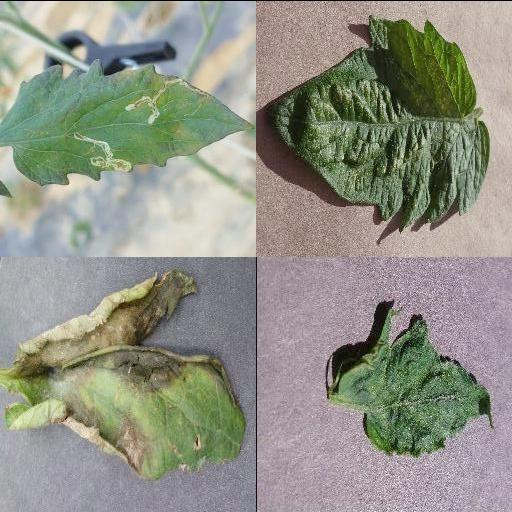Late Blight: (5, 267, 249, 477)
Leaf Miner: (0, 56, 255, 185)
Mosaic Virus: (335, 307, 496, 459)
Spider Mites: (271, 12, 489, 232)
